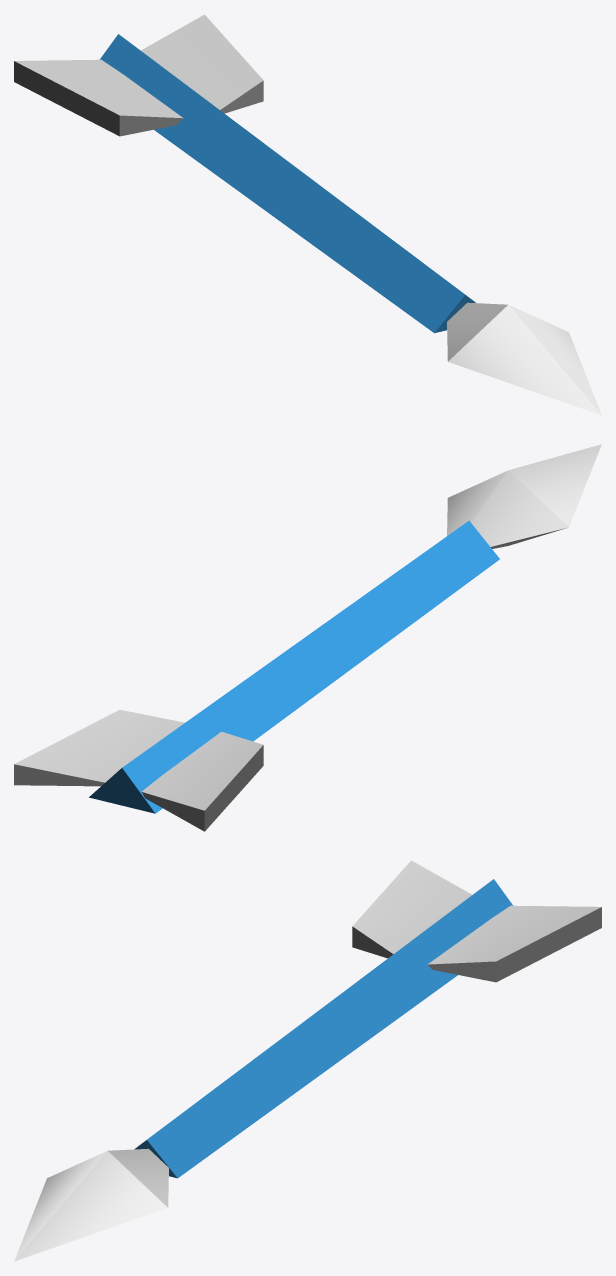
File: Crossbow_Man_Arrow.fbx
3 views of the same model, one above another, from view 1: azimuth 30°, elevation 25°; view 2: azimuth 150°, elevation 25°; view 3: azimuth 330°, elevation 25° (orthographic).
Visible parts, largest first — view 1: Crossbow_Man_Arrow; view 2: Crossbow_Man_Arrow; view 3: Crossbow_Man_Arrow.
Part boxes in pixels (x1,y1,x2,y2): Crossbow_Man_Arrow: (14, 14, 601, 415); Crossbow_Man_Arrow: (14, 444, 601, 831); Crossbow_Man_Arrow: (14, 860, 601, 1261).
Bounding box in the file's own units: 0.0761 × 0.0289 × 0.3407.
